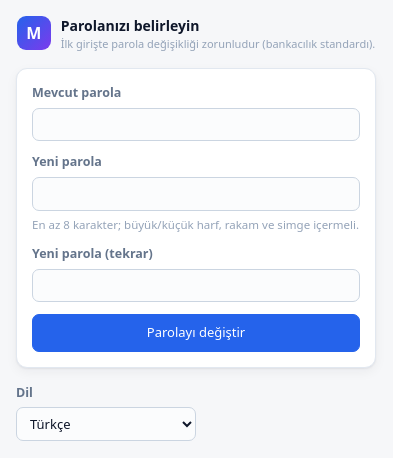
Test: first-run bootstrap change-password (banking standard) › signs the user out to /login after a successful change
Type "admin123" into the password field labelled "Mevcut parola" at (196,125), box [32,108,360,141]
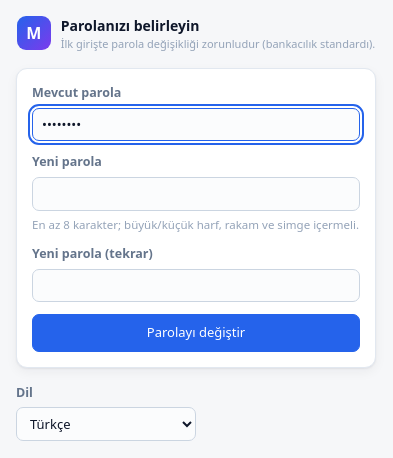
Type "Maestro!First-2026" into the password field labelled "Yeni parola" at (196,194), box [32,177,360,211]
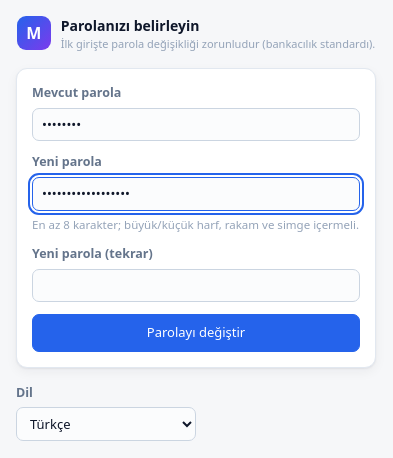
Type "Maestro!First-2026" into the password field labelled "Yeni parola (tekrar)" at (196,285), box [32,269,360,302]
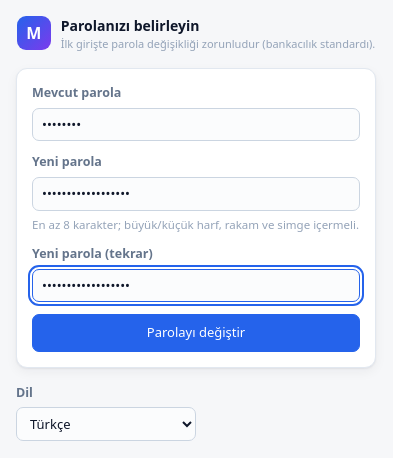
Click the button "Parolayı değiştir" at (196,333), box [32,314,360,352]
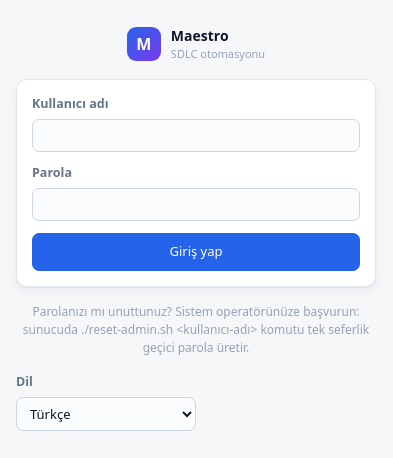
Result: the field labelled "Kullanıcı adı" is shown at [32,119,360,152]
